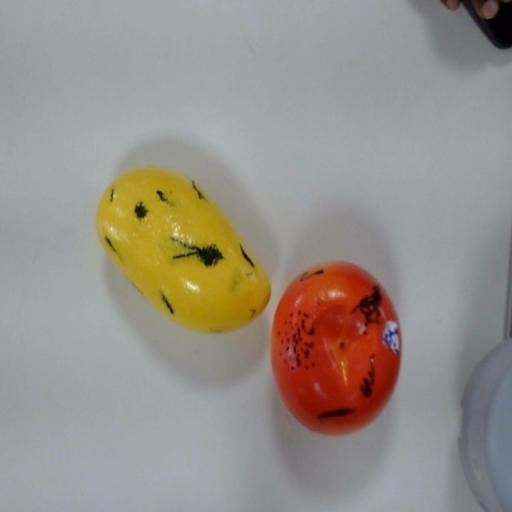Defective: (92, 148, 274, 336), (273, 251, 414, 452)
